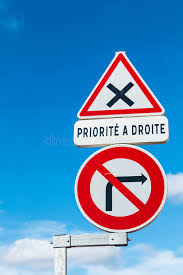No_right_turn: (74, 144, 168, 232)
